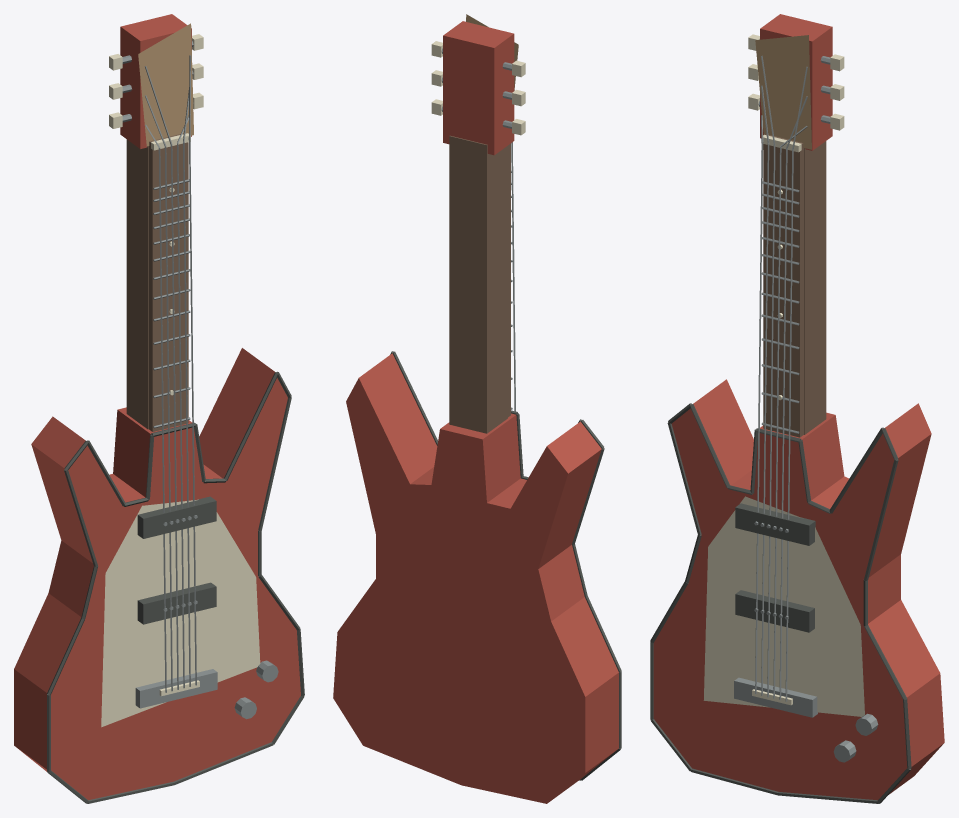
File: Guitar_Electric.fbx
3 views of the same model, side by side, from view 1: azimuth 30°, elevation 25°; view 2: azimuth 150°, elevation 25°; view 3: azimuth 330°, elevation 25° (orthographic). The views are drawn at different scales.
Visible parts, largest first — view 1: Guitar_Electric_Geometry; view 2: Guitar_Electric_Geometry; view 3: Guitar_Electric_Geometry.
Boxes of the visible parts, x1,y1,x2,y2 form: Guitar_Electric_Geometry: (14, 14, 304, 803); Guitar_Electric_Geometry: (333, 14, 621, 803); Guitar_Electric_Geometry: (650, 14, 944, 803).
Size of the model in its own units: 59.88 by 167 by 17.19.
